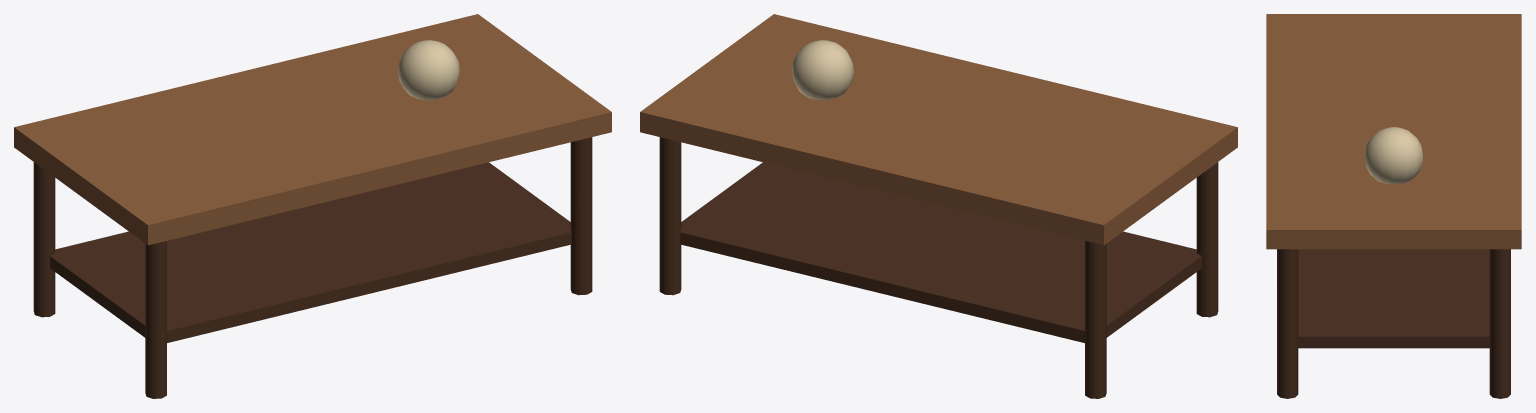
File: coffeeTable.glb
The picture shows the model from 3 angles, left to right: view 1: azimuth 30°, elevation 25°; view 2: azimuth 150°, elevation 25°; view 3: azimuth 270°, elevation 25°; orthographic projection. The views are drawn at different scales.
Visible parts, largest first — view 1: coffeeTable; view 2: coffeeTable; view 3: coffeeTable.
Boxes of the visible parts, x1,y1,x2,y2 form: coffeeTable: (14, 14, 611, 398); coffeeTable: (640, 14, 1237, 398); coffeeTable: (1266, 14, 1521, 398).
Size of the model in its own units: 1.2 by 0.57 by 0.6.
